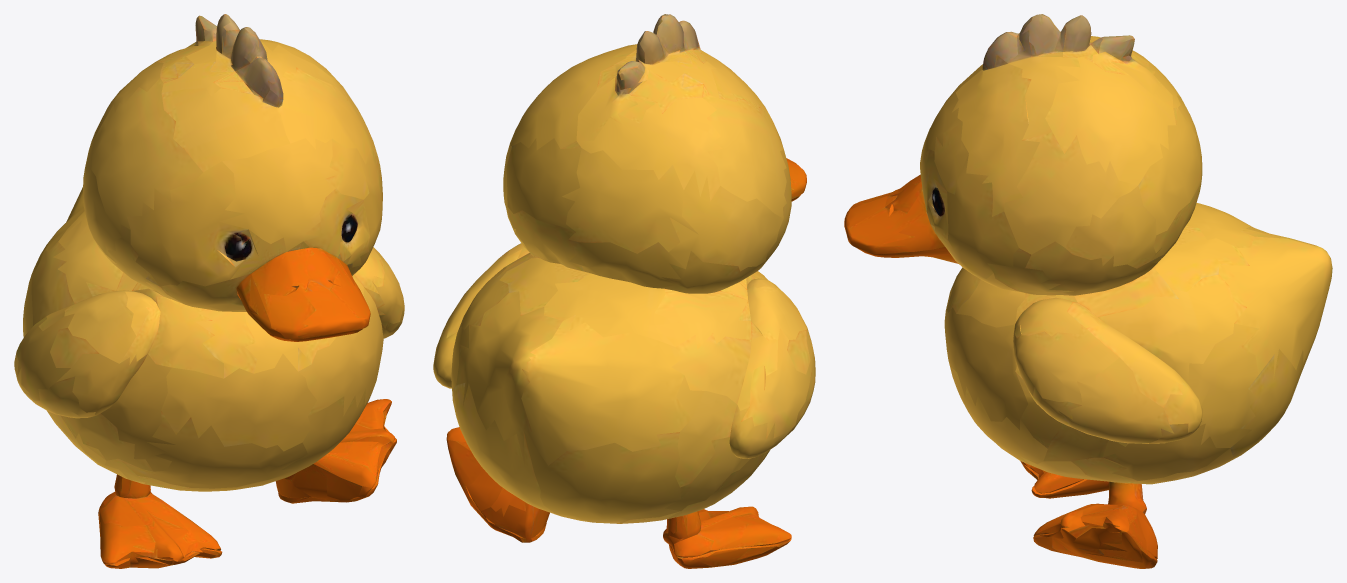
File: duck.glb
The picture shows the model from 3 angles, left to right: view 1: azimuth 30°, elevation 25°; view 2: azimuth 150°, elevation 25°; view 3: azimuth 270°, elevation 25°; orthographic projection. The views are drawn at different scales.
Parts seen in each view (by area): view 1: mesh_node; view 2: mesh_node; view 3: mesh_node.
Boxes of the visible parts, x1=… form: mesh_node: x1=14, y1=14, x2=404, y2=568; mesh_node: x1=433, y1=14, x2=815, y2=568; mesh_node: x1=844, y1=14, x2=1332, y2=568.
Bounding box in the file's own units: 1.35 × 1.9 × 1.66.
Materials: 1 (1 with a texture image).
